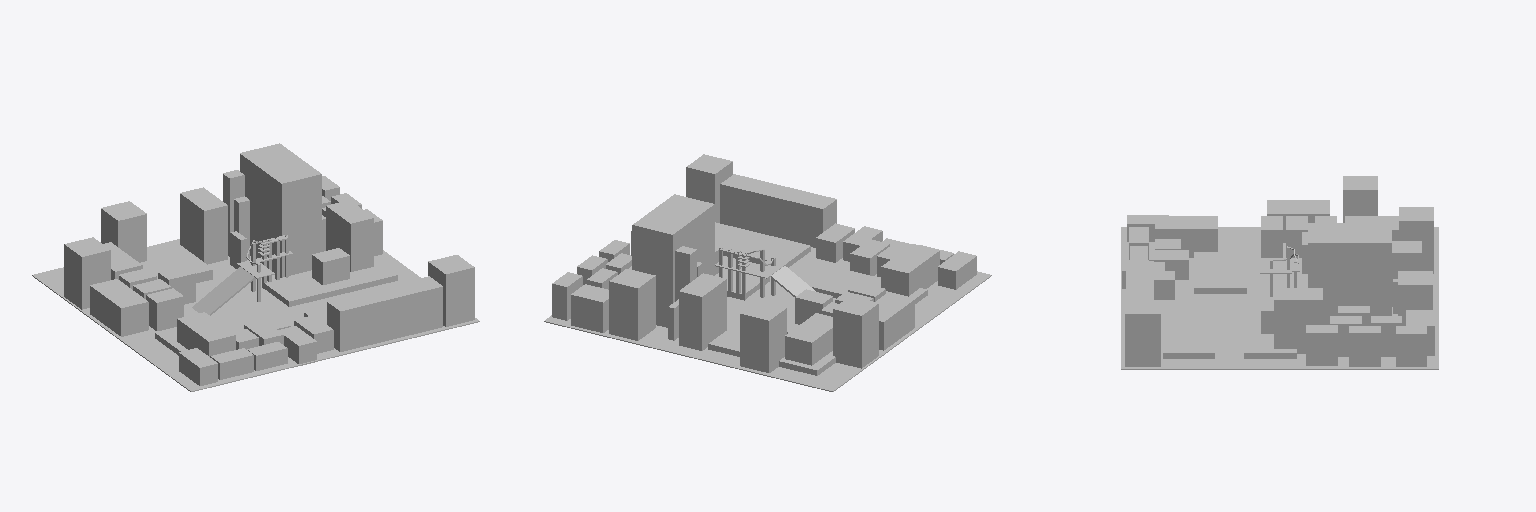
Rendered from zone.obj.
The picture shows the model from 3 angles: view 1: azimuth 30°, elevation 25°; view 2: azimuth 150°, elevation 25°; view 3: azimuth 270°, elevation 25°; orthographic projection.
Visible parts, largest first — view 1: Cube.038_Cube.041; view 2: Cube.038_Cube.041; view 3: Cube.038_Cube.041.
Boxes of the visible parts, box(x1,y1,x2,y2) form: Cube.038_Cube.041: box(32, 143, 479, 391); Cube.038_Cube.041: box(544, 154, 991, 391); Cube.038_Cube.041: box(1121, 176, 1438, 369).
Size of the model in its own units: 180 by 62.44 by 172.